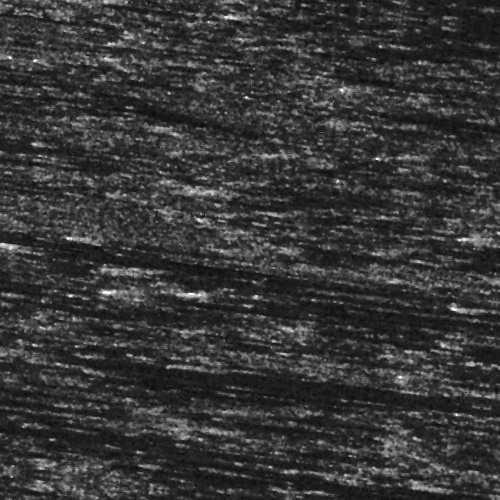object: (0, 364, 139, 395), (49, 294, 206, 321), (131, 286, 288, 309), (235, 311, 422, 326), (130, 366, 255, 377), (167, 14, 230, 23), (75, 252, 138, 259), (243, 406, 306, 411), (432, 460, 495, 465), (199, 466, 262, 471), (0, 270, 34, 279), (0, 450, 29, 459), (465, 314, 500, 321), (459, 207, 500, 212)
shadow: (4, 364, 500, 395), (127, 294, 414, 321), (210, 286, 500, 309), (0, 270, 470, 279), (192, 366, 500, 377), (0, 450, 334, 459), (328, 311, 500, 326), (198, 14, 458, 23), (230, 466, 500, 471), (107, 252, 243, 259), (0, 313, 97, 322), (274, 406, 421, 411), (0, 412, 101, 419), (145, 284, 427, 285), (463, 460, 500, 465)
